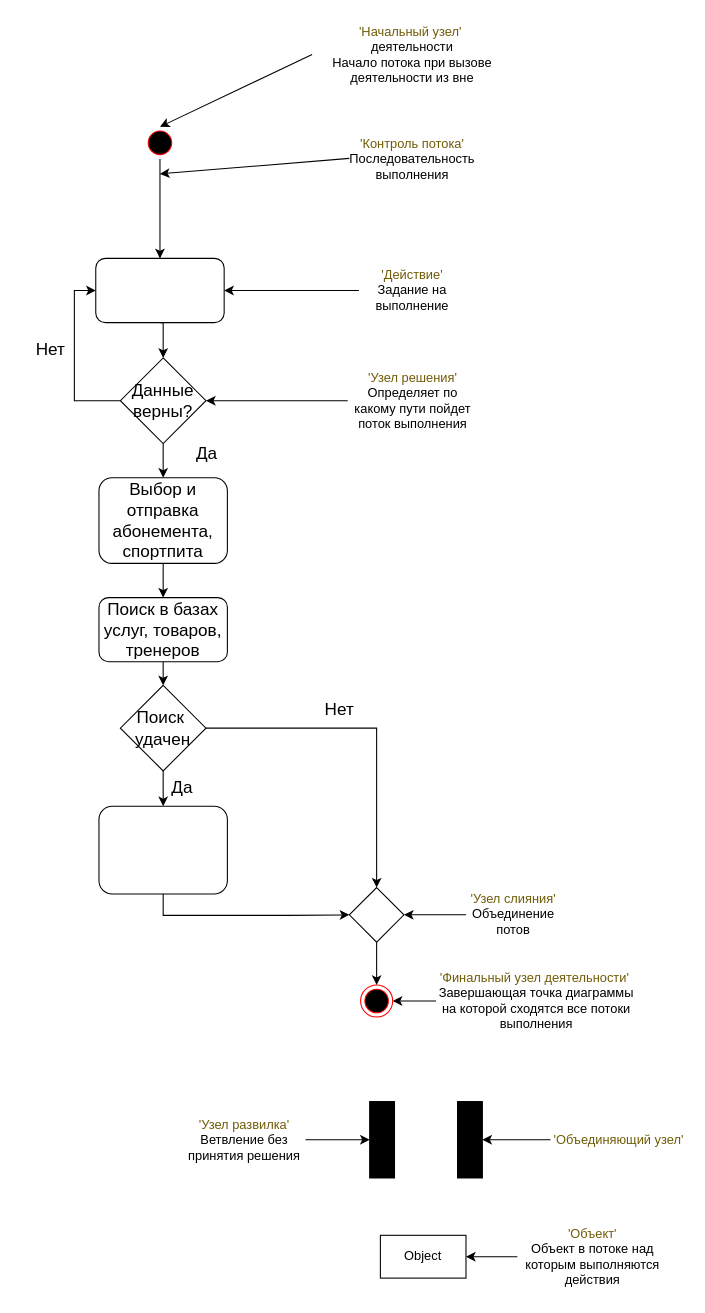
This 705x1313 diagram has some shape labels left out. Here are the shapes that lost their labels. From the top down, the box of each, then its label:
(95, 257, 224, 323): Ввод данных при входе
(98, 805, 227, 894): Отправить отчет клиенту на email
